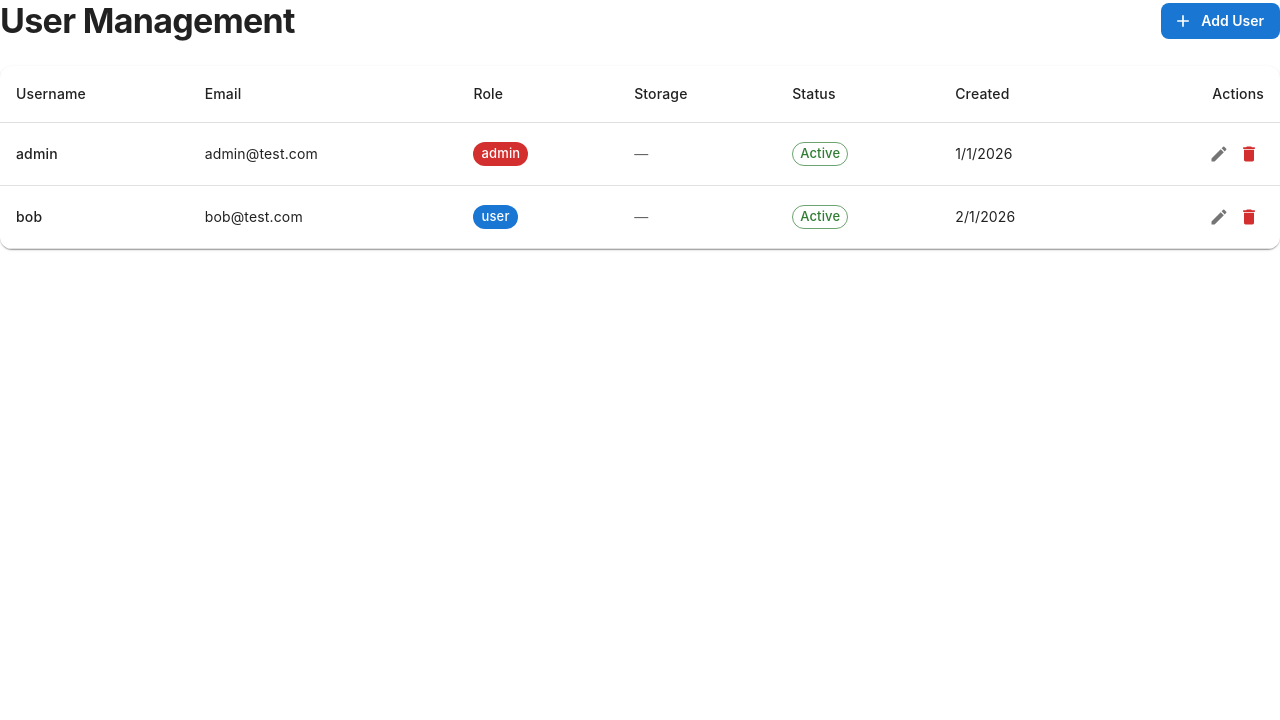
Test: UsersPage › opens create user dialog
The width and height of the screenshot is (1280, 720).
Click the button "Add User". click: click(1221, 21)
box: [1161, 3, 1279, 39]
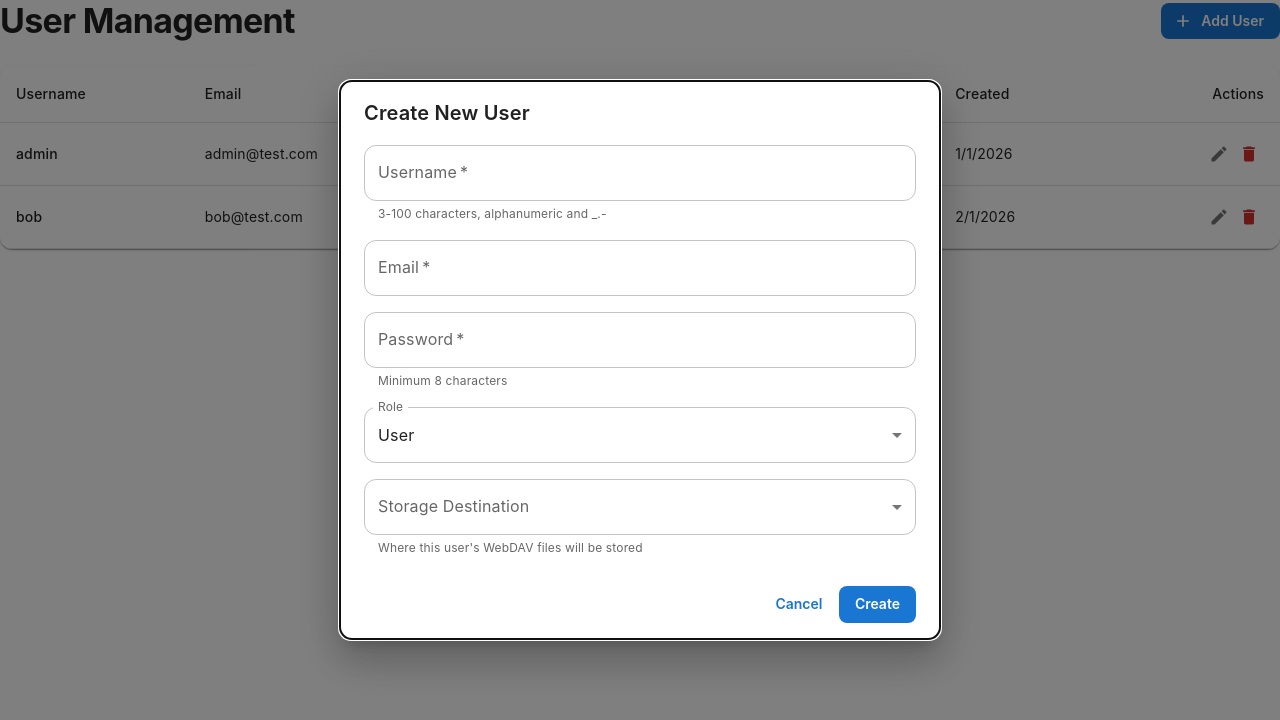
Now the heading "Create New User" is shown, box [364, 101, 530, 125]
